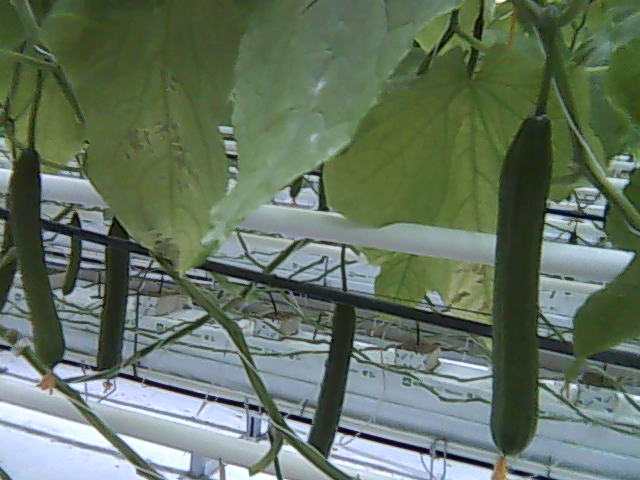concombre: (485, 100, 560, 480), (1, 142, 72, 393)
